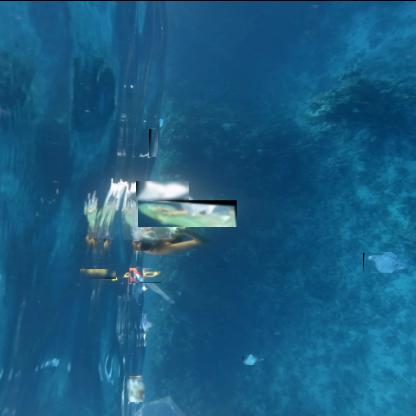plastic-bag: (138, 198, 238, 226)
waste: (136, 179, 190, 209), (363, 251, 409, 272), (125, 374, 146, 400), (129, 266, 162, 282), (80, 267, 117, 278), (149, 127, 159, 156), (242, 354, 260, 364)
